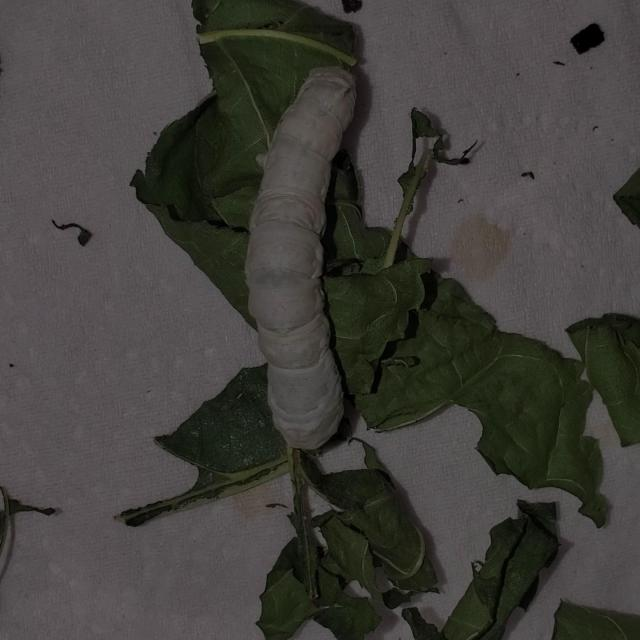Healthy: (220, 33, 400, 482)
